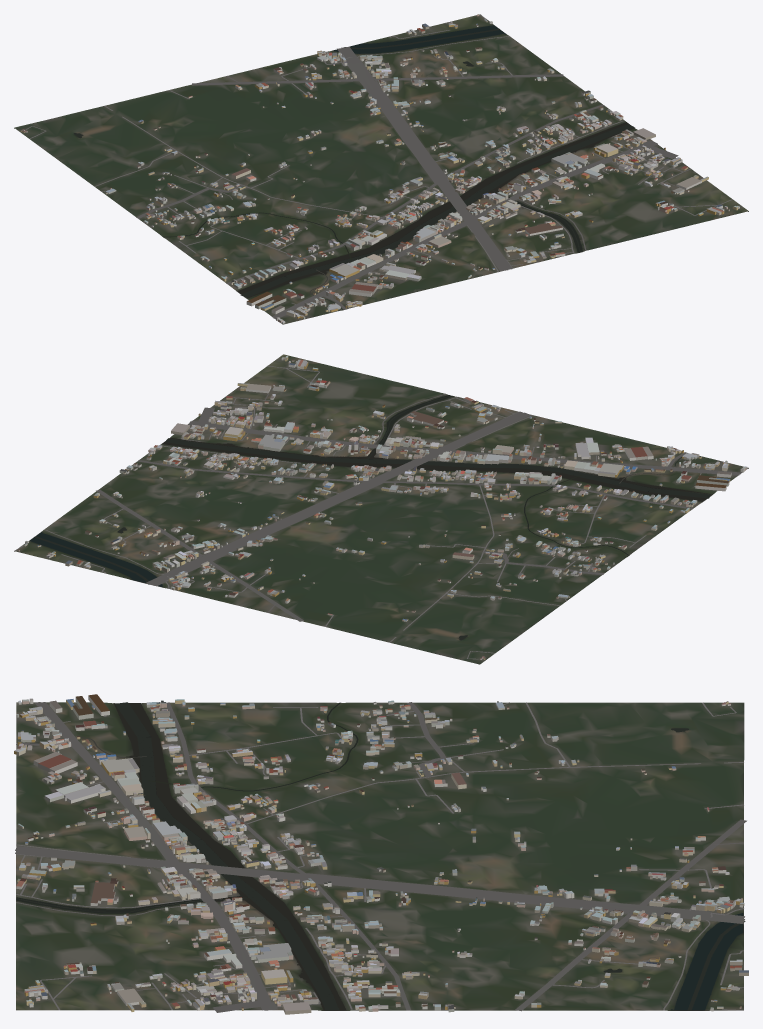
3 views of the same model, one above another, from view 1: azimuth 30°, elevation 25°; view 2: azimuth 150°, elevation 25°; view 3: azimuth 270°, elevation 25° (orthographic). The views are drawn at different scales.
Visible parts, largest first — view 1: ground, buildings, roads, water; view 2: ground, buildings, roads, water; view 3: ground, buildings, roads, water.
Part boxes in pixels (x1,y1,x2,y2): ground: (14,14,748,324); buildings: (20,14,739,323); roads: (26,14,732,318); water: (73,25,634,309); ground: (14,354,748,664); buildings: (17,356,747,659); roads: (14,366,741,659); water: (29,395,711,640); ground: (16,702,744,1010); buildings: (14,694,748,1014); roads: (15,702,746,1012); water: (16,702,745,1010).
Size of the model in its own units: 1439 by 21.72 by 1414.
